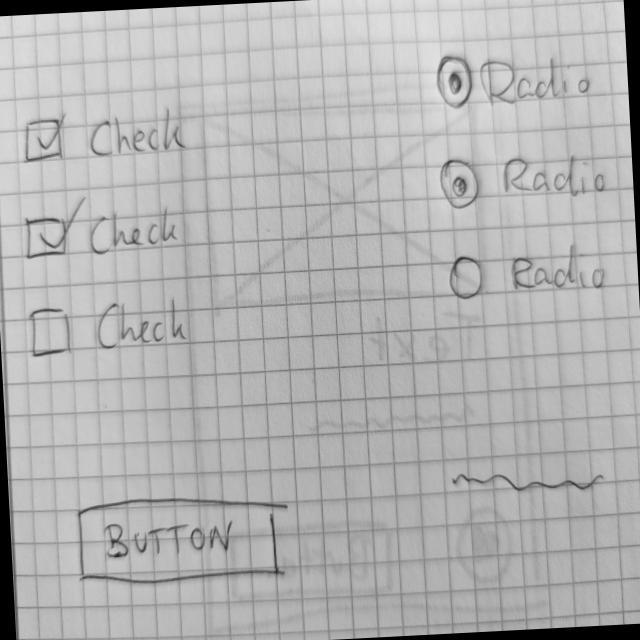button: (75, 489, 286, 592)
checkbox: (23, 189, 185, 263), (21, 101, 196, 168), (26, 298, 191, 362)
radio: (439, 147, 489, 212), (445, 239, 490, 302), (434, 45, 478, 109)
text: (449, 459, 608, 503)
